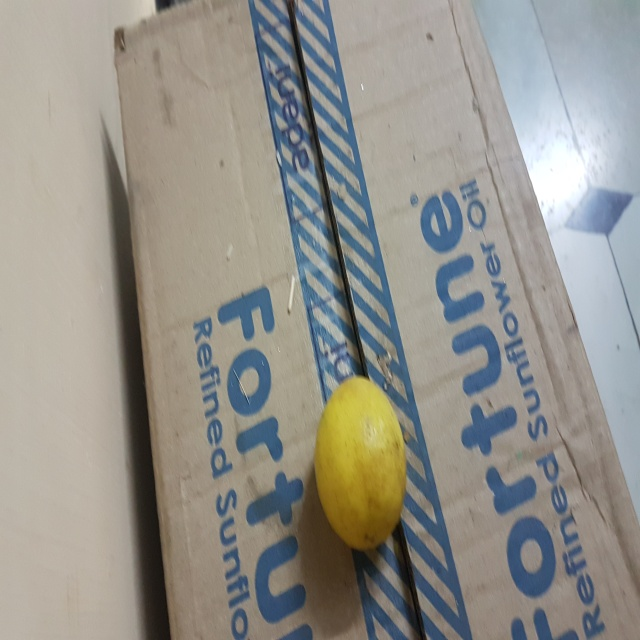lemon: (304, 371, 427, 556)
